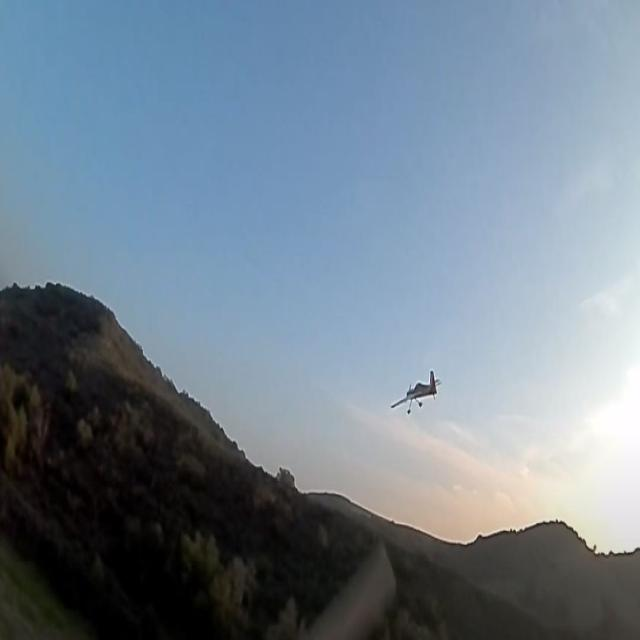iha: (391, 362, 442, 407)
